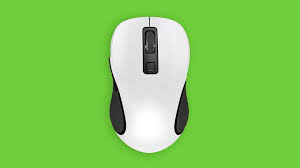mouse: (106, 13, 198, 149)
